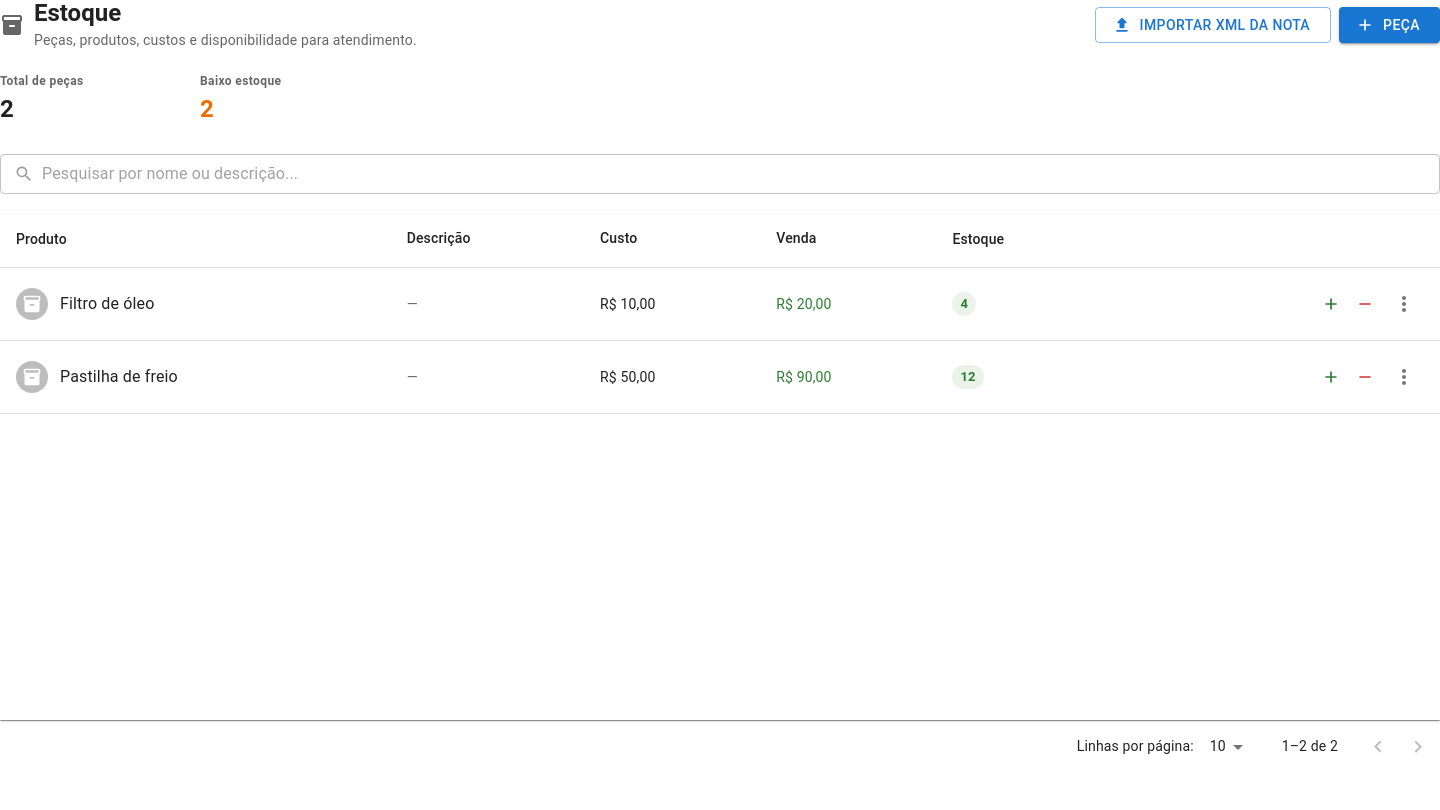
Test: ajuste de estoque: quantidade › vazio ou zero só é recusado ao confirmar, com erro no campo
Expected: the text "Filtro de óleo" is shown, [60, 292, 154, 316]
Click the button named "Registrar entrada" in the row of "Filtro de óleo": (1331, 304) [1316, 284, 1346, 324]
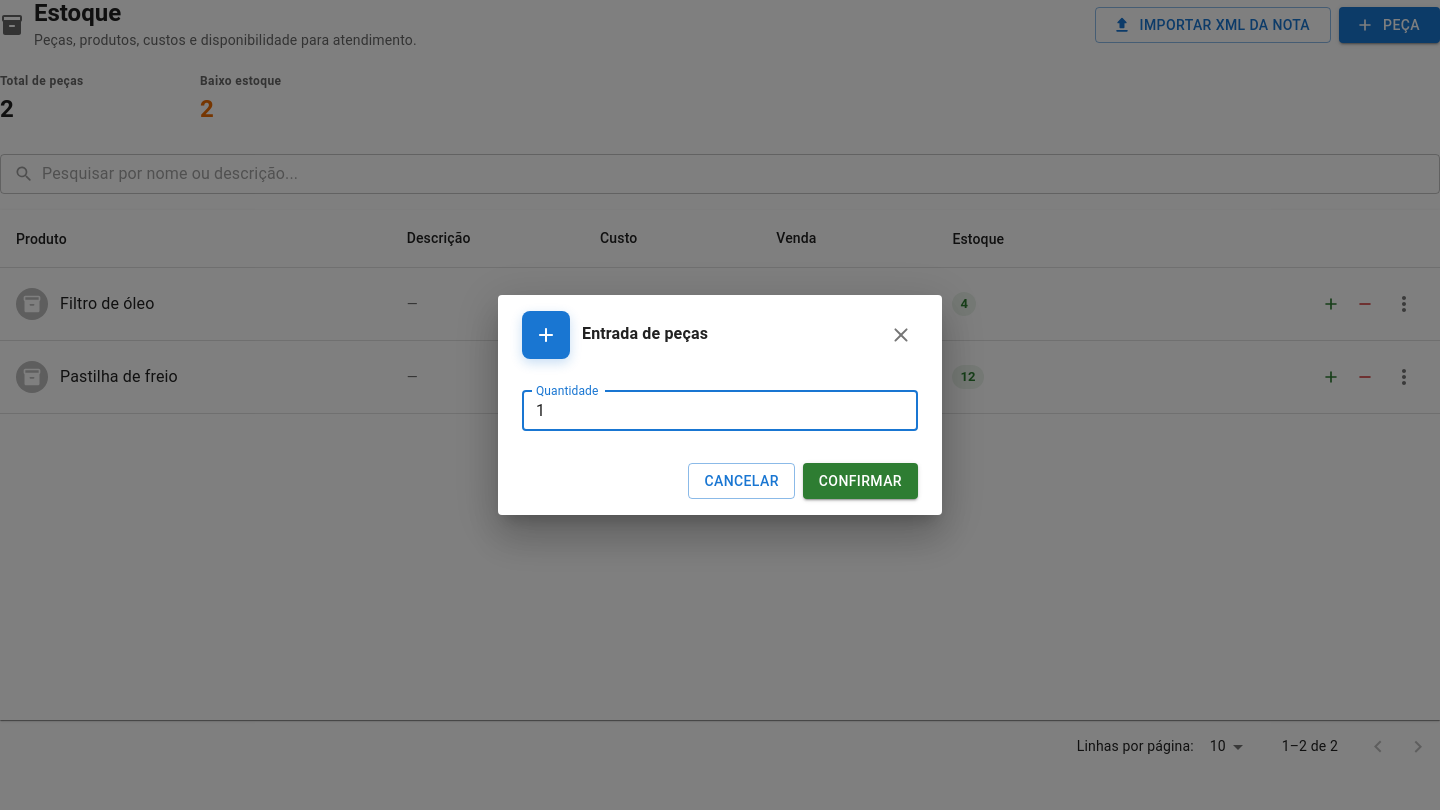
Clear the field labelled "Quantidade": (720, 411) [522, 391, 918, 431]
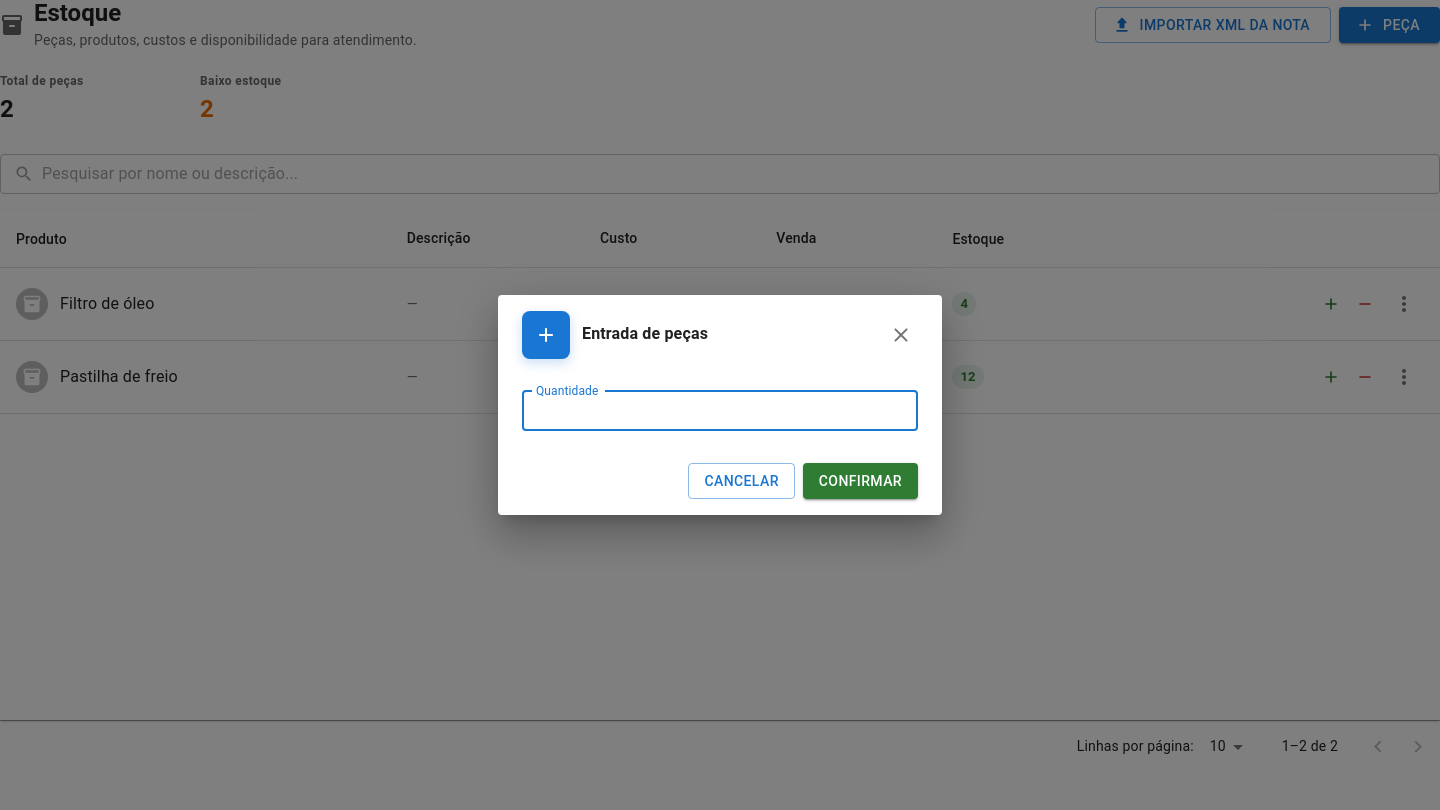
Expected: the text "número maior que zero" is not shown
Click the button "Confirmar": (860, 481) [803, 463, 918, 499]
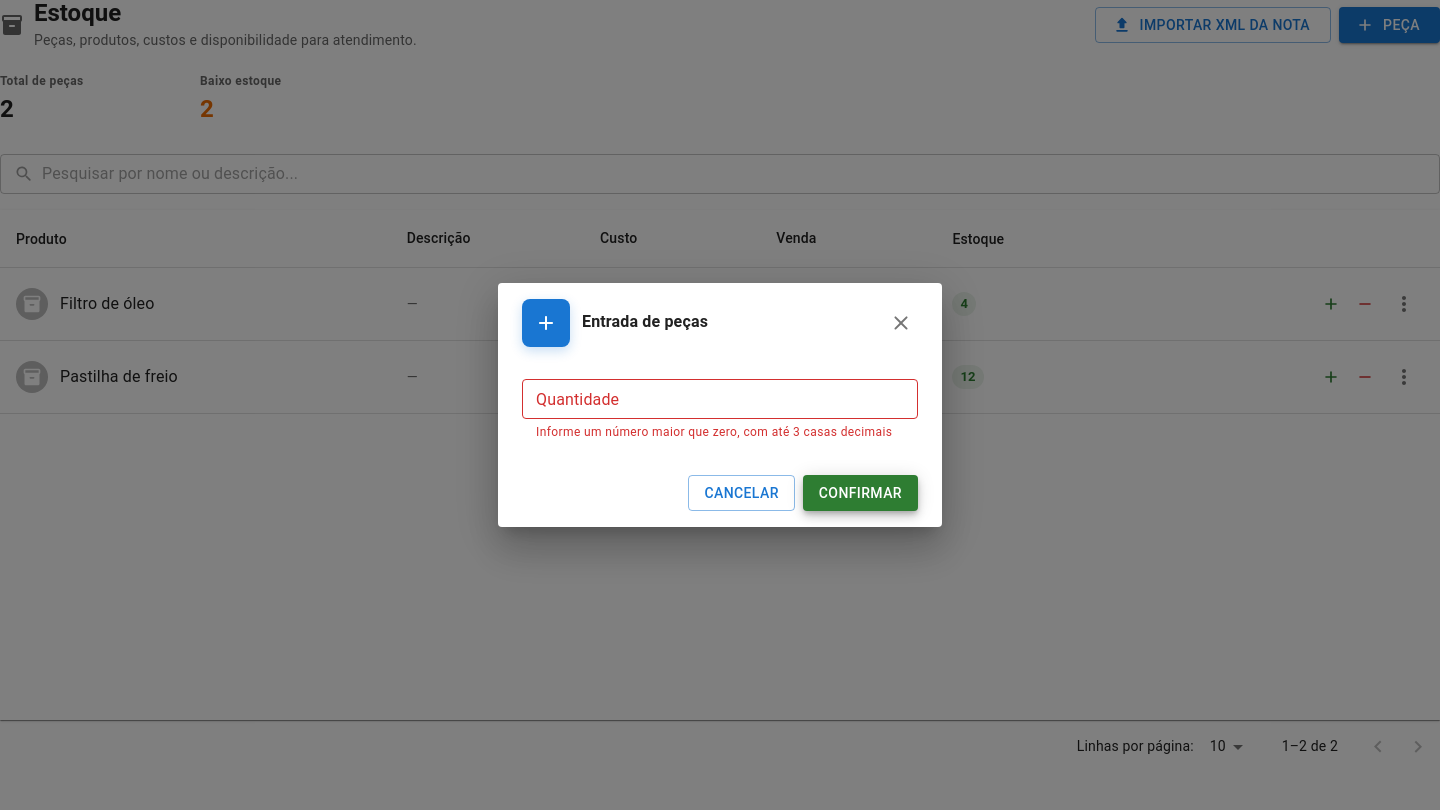
Now the text "Informe um número maior que zero, com até 3 casas decimais" is shown, box [536, 423, 904, 443]
In the field labelled "Quantidade": (720, 399) [522, 379, 918, 419], type "0"
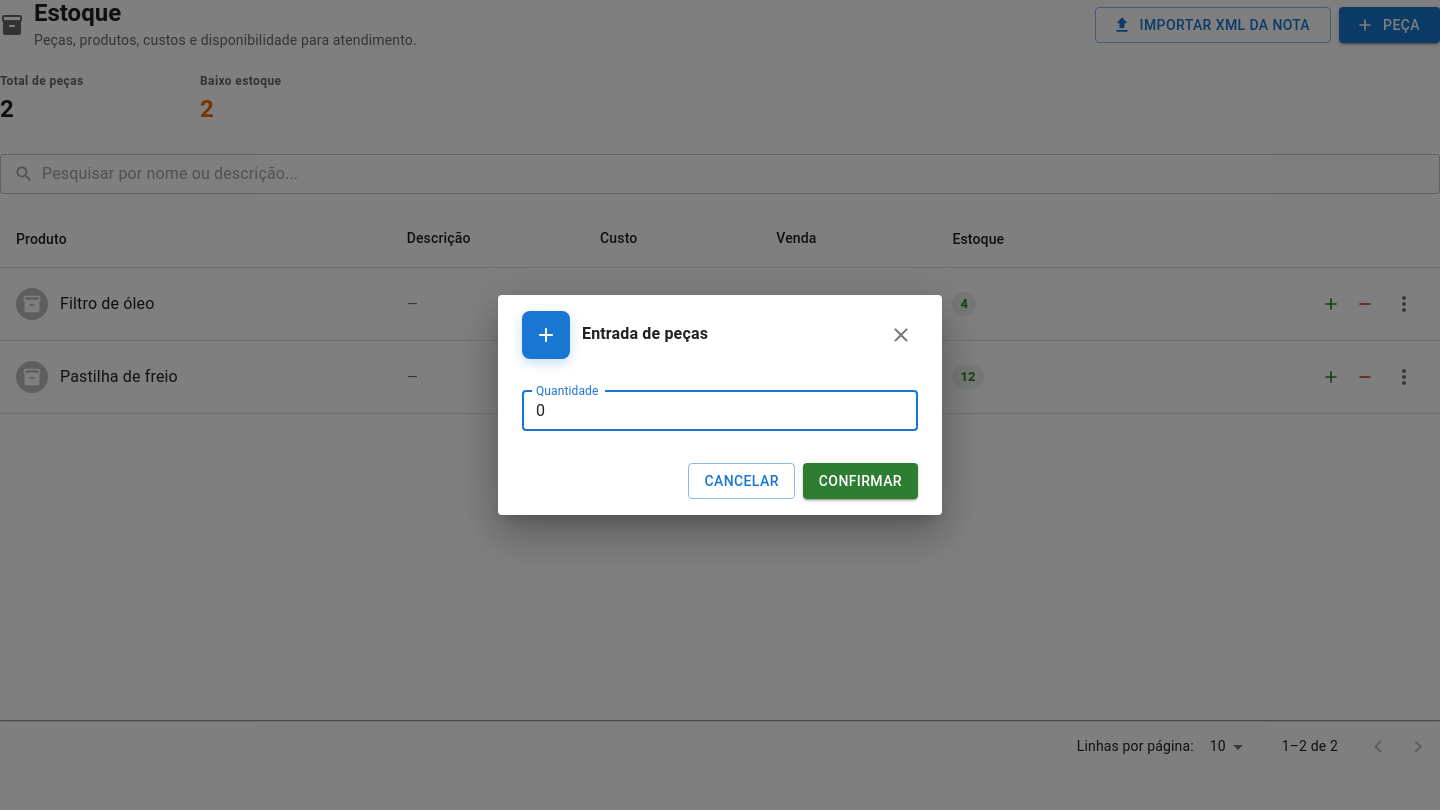
Click the button "Confirmar": (860, 481) [803, 463, 918, 499]
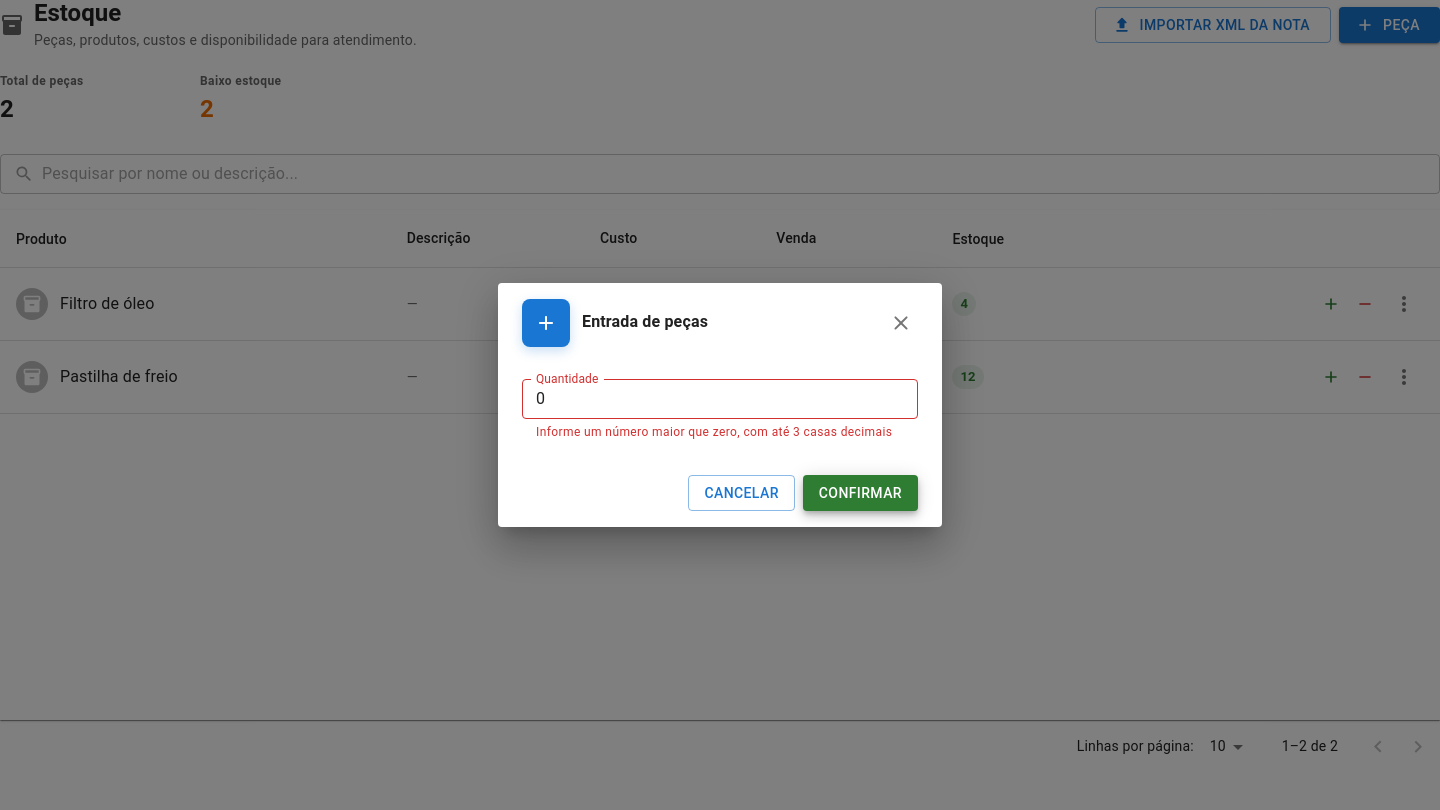
Now the text "Informe um número maior que zero, com até 3 casas decimais" is shown, box [536, 423, 904, 443]
